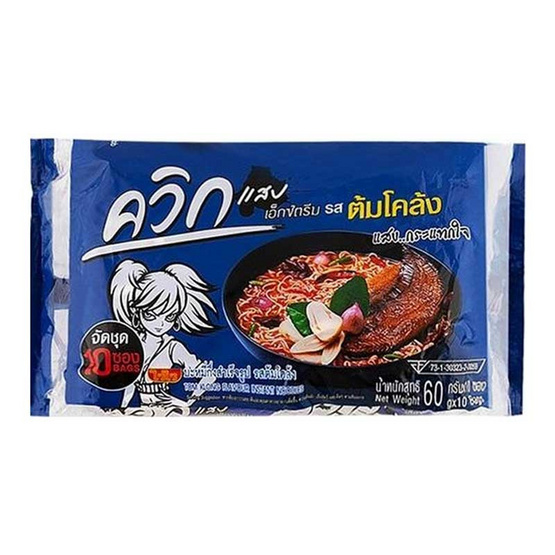Snack: (21, 132, 530, 429)
